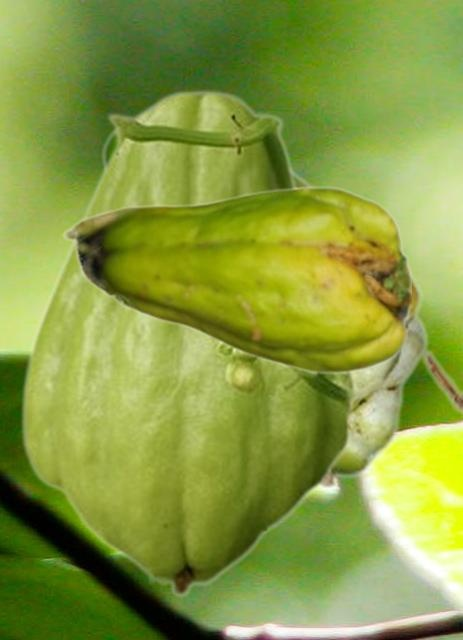sayote: (19, 89, 387, 597), (96, 128, 461, 489), (61, 185, 410, 374)
